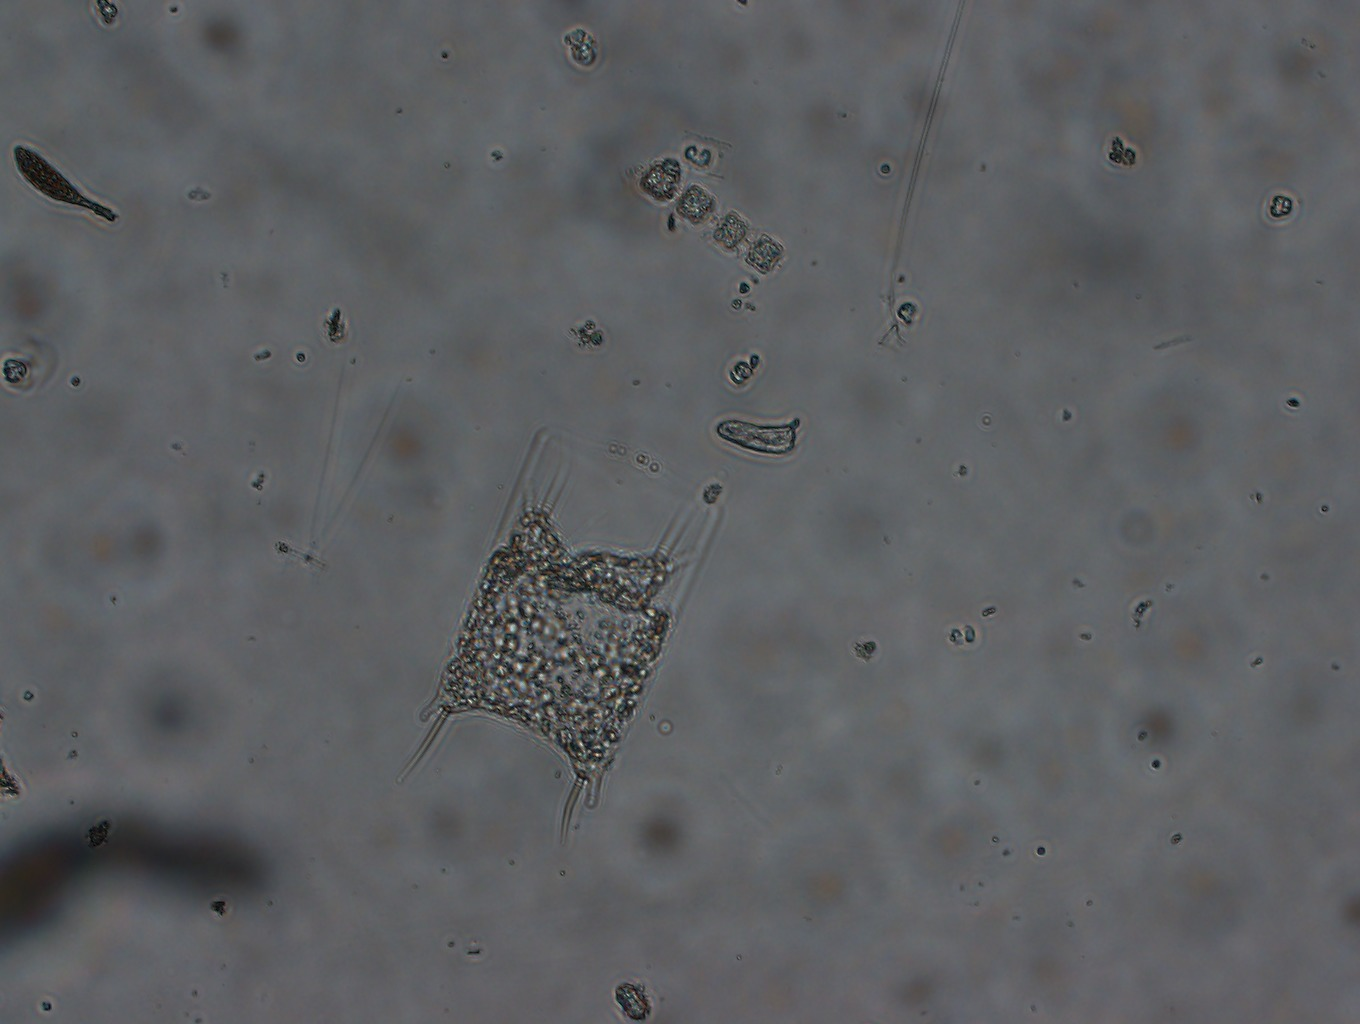biddulphia: (387, 406, 722, 847)
detonula pumila: (632, 150, 785, 278)
